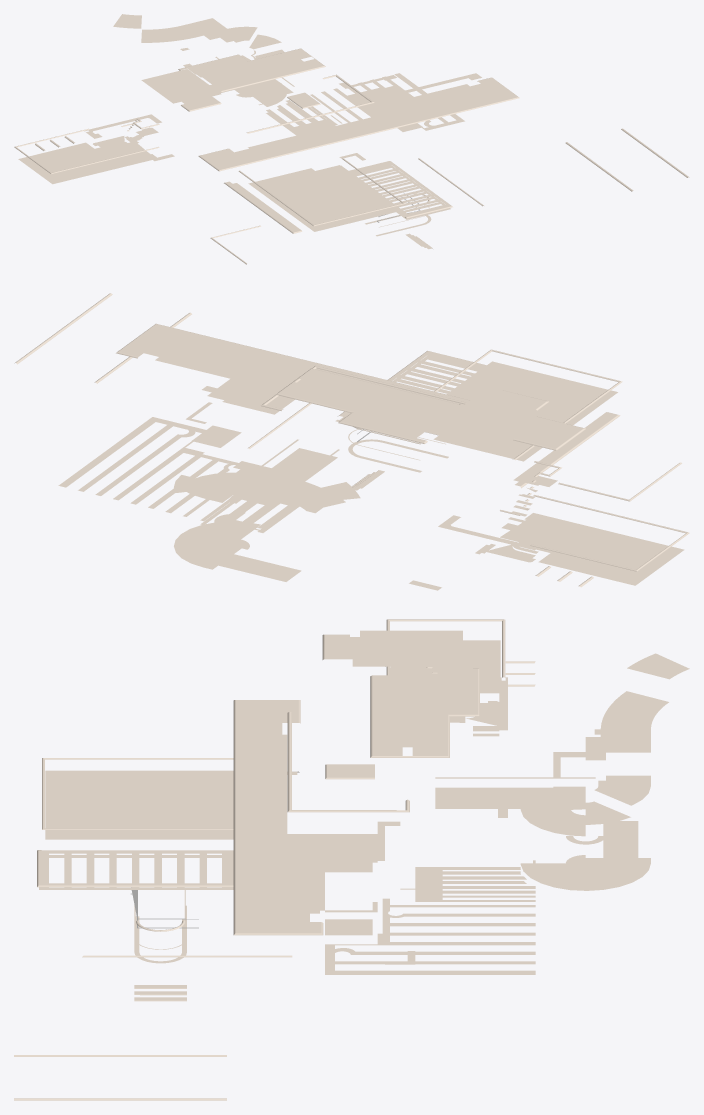
Rendered from cubierta.glb.
3 renders of one model, top to bottom at view 1: azimuth 30°, elevation 25°; view 2: azimuth 150°, elevation 25°; view 3: azimuth 270°, elevation 25°, orthographic. The views are drawn at different scales.
Parts seen in each view (by area): view 1: Root Node_ae7f56, Root Node_c517f9; view 2: Root Node_ae7f56, Root Node_c517f9; view 3: Root Node_ae7f56, Root Node_c517f9.
Part boxes in pixels (box(x1,y1,x2,y2)): Root Node_ae7f56: box(14, 14, 689, 264); Root Node_c517f9: box(18, 28, 481, 231); Root Node_ae7f56: box(15, 293, 689, 587); Root Node_c517f9: box(137, 341, 684, 590); Root Node_ae7f56: box(14, 619, 689, 1100); Root Node_c517f9: box(45, 640, 605, 964).
Bounding box in the file's own units: 38.47 × 9.96 × 26.96.
